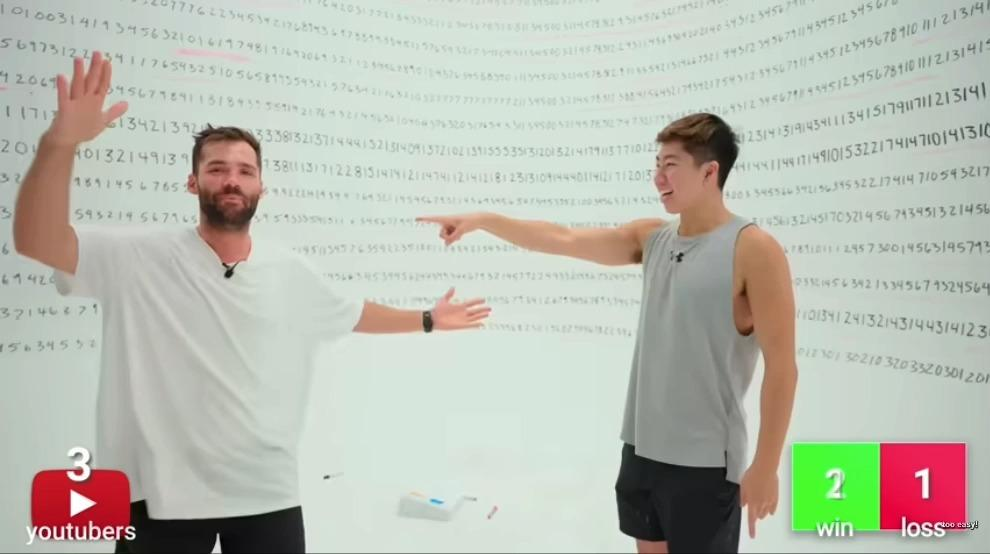Paper: (50, 50, 132, 148)
